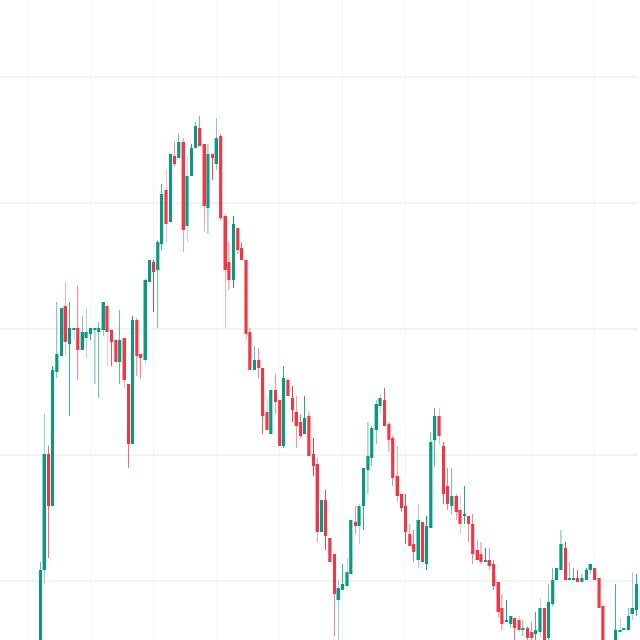Triple-Bottom: (152, 102, 230, 268)
